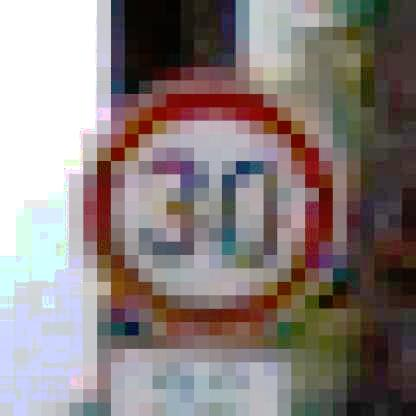Speed Limit -30-: (70, 77, 352, 335)
